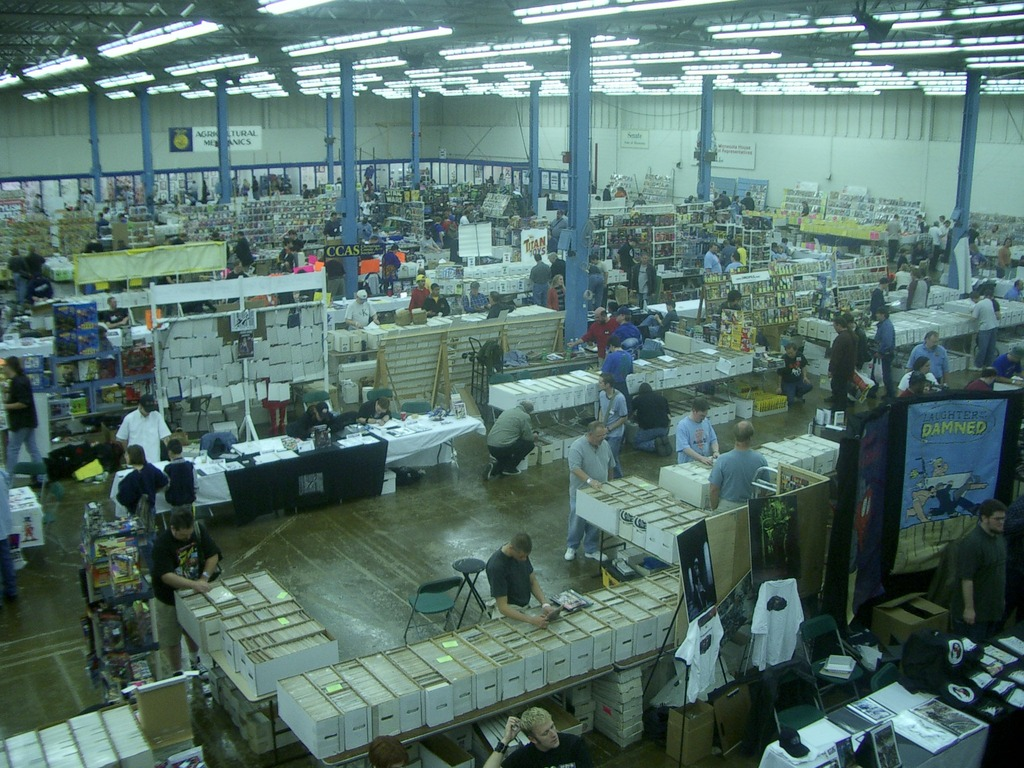Person: (0, 179, 1023, 767)
